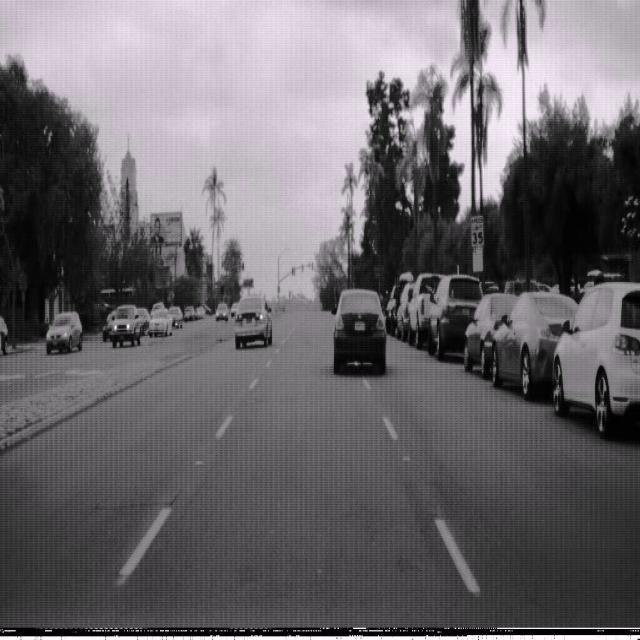speedLimit35: (469, 212, 485, 249)
